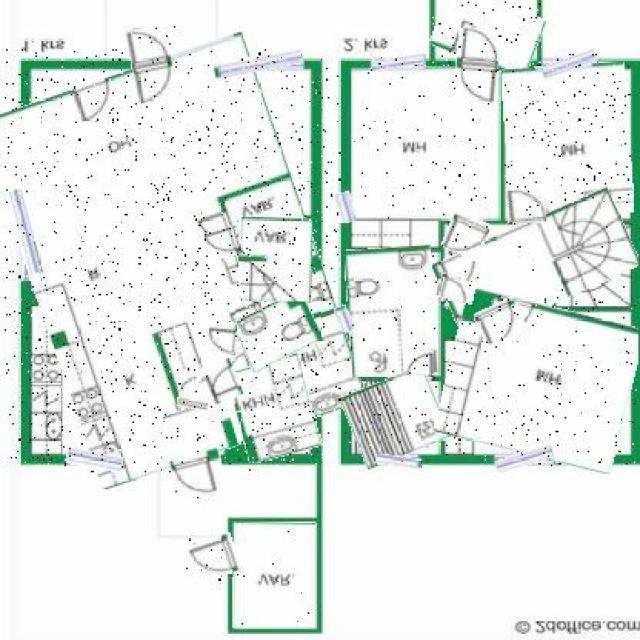door: (130, 26, 176, 103), (454, 27, 498, 104), (172, 448, 225, 500), (183, 537, 239, 581), (443, 212, 488, 257), (198, 360, 242, 405), (477, 302, 523, 342), (178, 371, 212, 411), (508, 188, 544, 225), (206, 228, 243, 262), (437, 275, 477, 303), (206, 323, 237, 355), (408, 351, 435, 375)
window: (214, 51, 303, 75), (14, 191, 38, 277), (541, 54, 597, 75), (495, 449, 554, 468), (66, 451, 123, 469), (371, 57, 426, 69), (334, 191, 354, 223), (376, 455, 422, 468), (337, 306, 352, 332)
zone: (5, 50, 340, 472), (443, 297, 637, 465), (435, 203, 637, 325), (354, 66, 497, 219), (503, 64, 632, 218), (348, 246, 437, 377), (345, 372, 446, 462), (231, 358, 317, 460), (234, 522, 315, 628), (432, 0, 542, 69), (240, 217, 312, 301), (235, 299, 320, 366), (166, 403, 237, 460)
